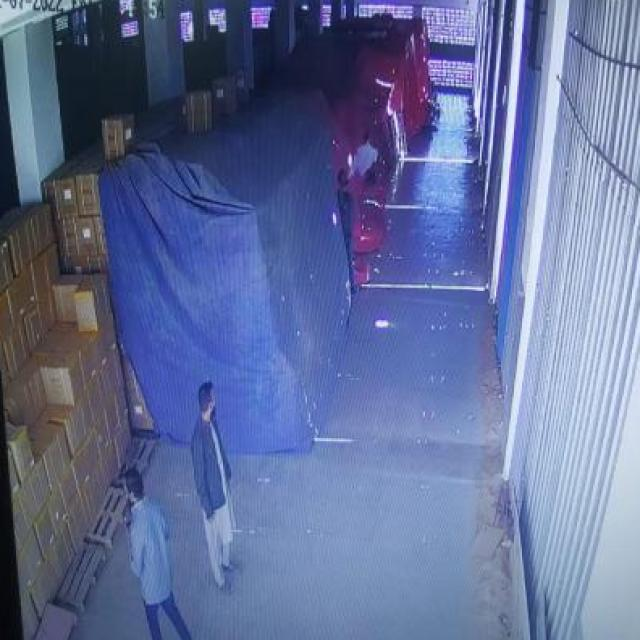fire: (346, 132, 379, 190)
